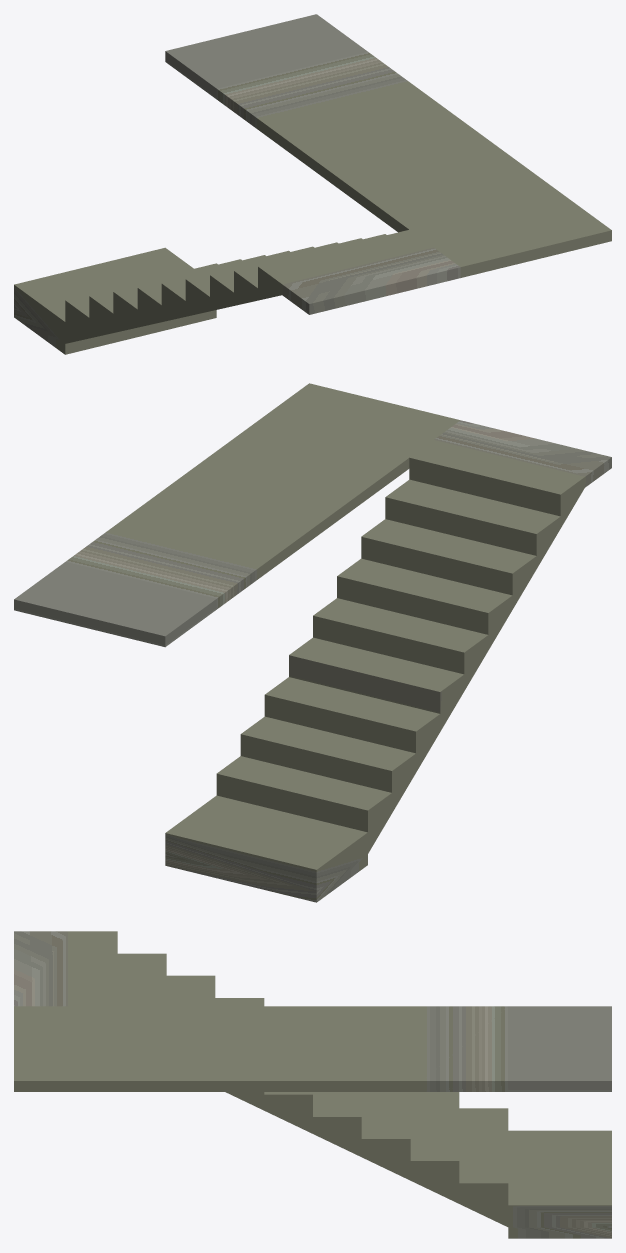
Rendered from TravelAgencySideStairPart.glb.
The picture shows the model from 3 angles, top to bottom: view 1: azimuth 30°, elevation 25°; view 2: azimuth 150°, elevation 25°; view 3: azimuth 270°, elevation 25°; orthographic projection.
Visible parts, largest first — view 1: SideStairsPart; view 2: SideStairsPart; view 3: SideStairsPart.
Part boxes in pixels (box(x1,y1,x2,y2)): SideStairsPart: box(14, 14, 611, 354); SideStairsPart: box(14, 383, 611, 902); SideStairsPart: box(14, 931, 611, 1238).
Size of the model in its own units: 5.8 by 4.2 by 9.8.
1 material, 1 textured.
